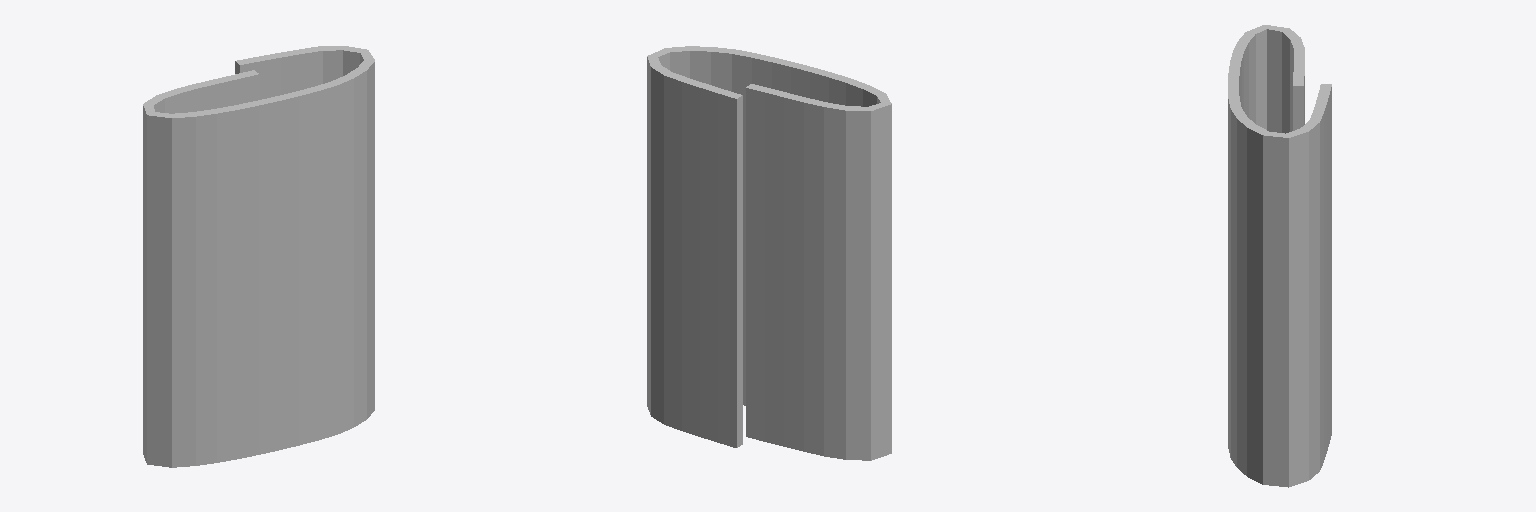
File: Scroll1.obj
3 views of the same model, side by side, from view 1: azimuth 30°, elevation 25°; view 2: azimuth 150°, elevation 25°; view 3: azimuth 270°, elevation 25° (orthographic).
Visible parts, largest first — view 1: Cube_Cube.001; view 2: Cube_Cube.001; view 3: Cube_Cube.001.
Part boxes in pixels (x1,y1,x2,y2): Cube_Cube.001: (143,46,374,467); Cube_Cube.001: (647,46,891,460); Cube_Cube.001: (1228,25,1331,487).
Size of the model in its own units: 3.22 by 4.62 by 1.25.